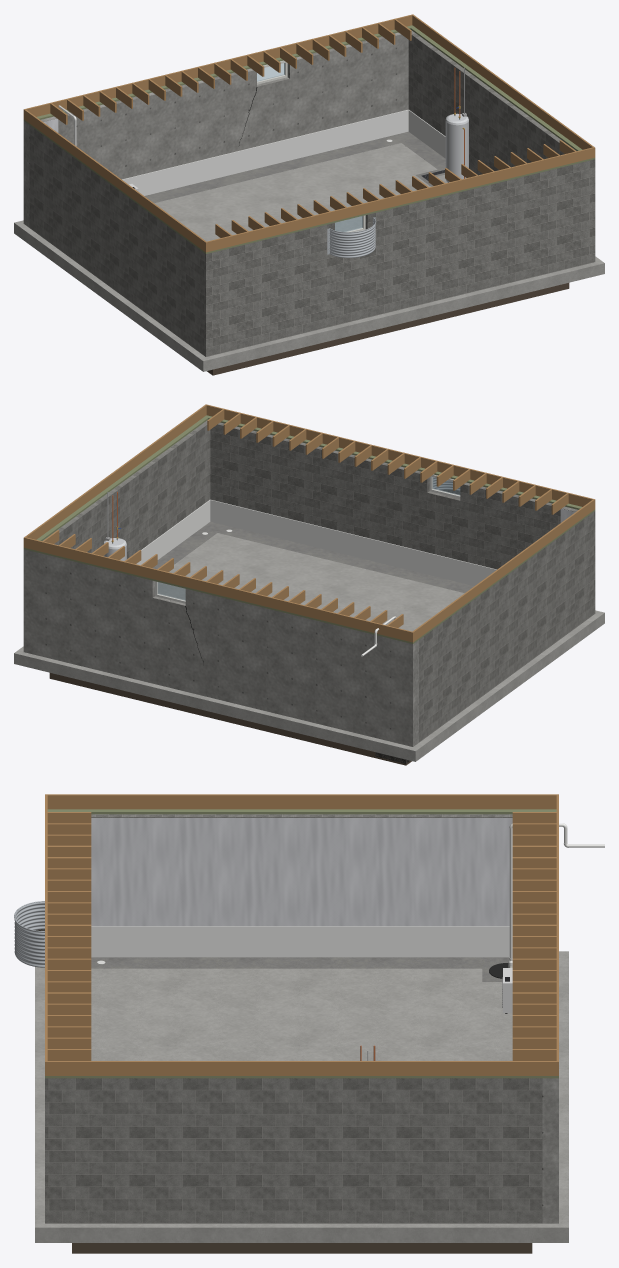
Rendered from bdry_basement.glb.
The picture shows the model from 3 angles, top to bottom: view 1: azimuth 30°, elevation 25°; view 2: azimuth 150°, elevation 25°; view 3: azimuth 270°, elevation 25°; orthographic projection. The views are drawn at different scales.
Parts seen in each view (by area): view 1: SHELL_Wall_S, SHELL_Wall_N, SHELL_Wall_W, SHELL_Slab, SHELL_Wall_E, SHELL_Framing_S, SHELL_Framing_N, PART_WallMembrane_N, SHELL_Footing_S, SHELL_Framing_E, SHELL_Footing_W, FILL_Patch_N (+6 smaller); view 2: SHELL_Wall_N, SHELL_Wall_S, SHELL_Wall_W, SHELL_Slab, SHELL_Wall_E, SHELL_Framing_N, SHELL_Framing_S, PART_WallMembrane_S, SHELL_Footing_N, SHELL_Framing_E, SHELL_Footing_W, FILL_Patch_S (+6 smaller); view 3: SHELL_Wall_E, PART_VaporBarrier_W, SHELL_Slab, PART_WallMembrane_W, SHELL_Framing_S, SHELL_Framing_N, SHELL_Framing_W, SHELL_Footing_E, SHELL_Framing_E, SHELL_SubBase, FILL_Patch_W, SHELL_Footing_N (+6 smaller).
Part boxes in pixels (x1,y1,x2,y2): SHELL_Wall_S: (200,159,595,356); SHELL_Wall_N: (23,30,412,227); SHELL_Wall_W: (29,125,199,352); SHELL_Slab: (154,143,447,241); SHELL_Wall_E: (408,31,575,175); SHELL_Framing_S: (202,140,595,253); SHELL_Framing_N: (23,14,414,124); PART_WallMembrane_N: (122,109,408,195); SHELL_Footing_S: (190,256,604,371); SHELL_Framing_E: (410,15,593,150); SHELL_Footing_W: (27,231,195,361); FILL_Patch_N: (144,131,417,202); SHELL_Wall_N: (23,549,418,746); SHELL_Wall_S: (206,420,595,617); SHELL_Wall_W: (419,515,589,742); SHELL_Slab: (158,533,464,631); SHELL_Wall_E: (43,421,210,558); SHELL_Framing_N: (23,530,416,643); SHELL_Framing_S: (204,404,595,514); PART_WallMembrane_S: (210,499,496,585); SHELL_Footing_N: (14,646,428,761); SHELL_Framing_E: (25,405,208,540); SHELL_Footing_W: (423,621,591,751); FILL_Patch_S: (201,521,474,592); SHELL_Wall_E: (62,1078,542,1223); PART_VaporBarrier_W: (91,818,512,926); SHELL_Slab: (91,968,512,1060); PART_WallMembrane_W: (91,926,509,957); SHELL_Framing_S: (45,794,91,1078); SHELL_Framing_N: (512,794,558,1078); SHELL_Framing_W: (47,794,556,814); SHELL_Footing_E: (72,1223,532,1242); SHELL_Framing_E: (47,1061,556,1078); SHELL_SubBase: (72,1243,532,1253); FILL_Patch_W: (91,957,482,968); SHELL_Footing_N: (532,951,568,1242).
Size of the model in its own units: 9.96 by 3.41 by 9.
42 materials, 10 textured.
